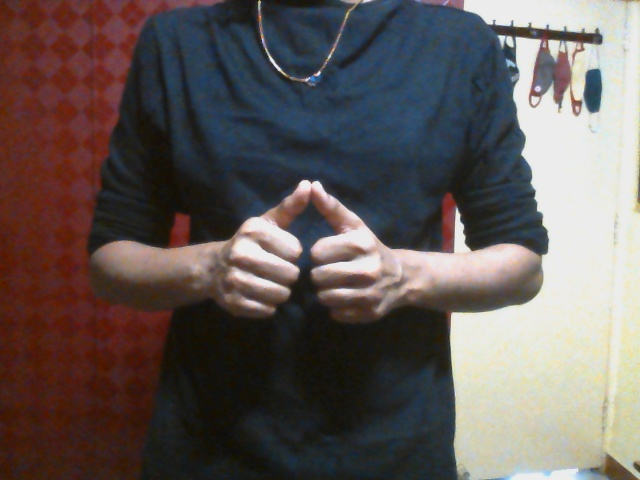A: (207, 178, 400, 326)
